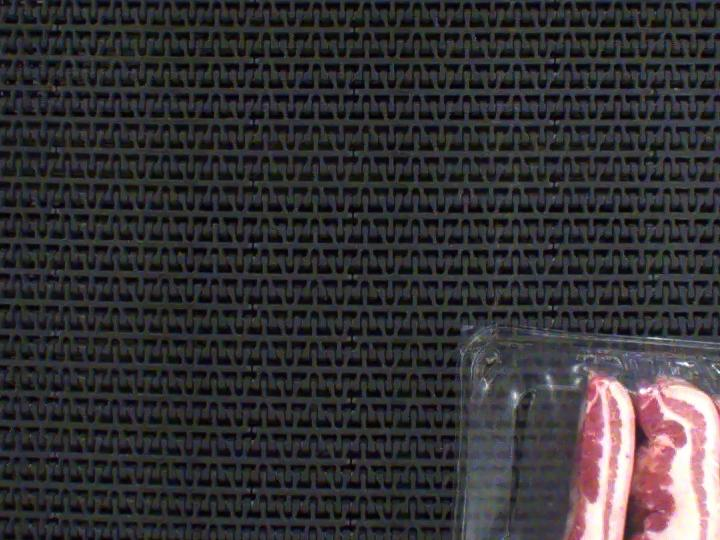unsealed: (477, 342, 720, 540)
